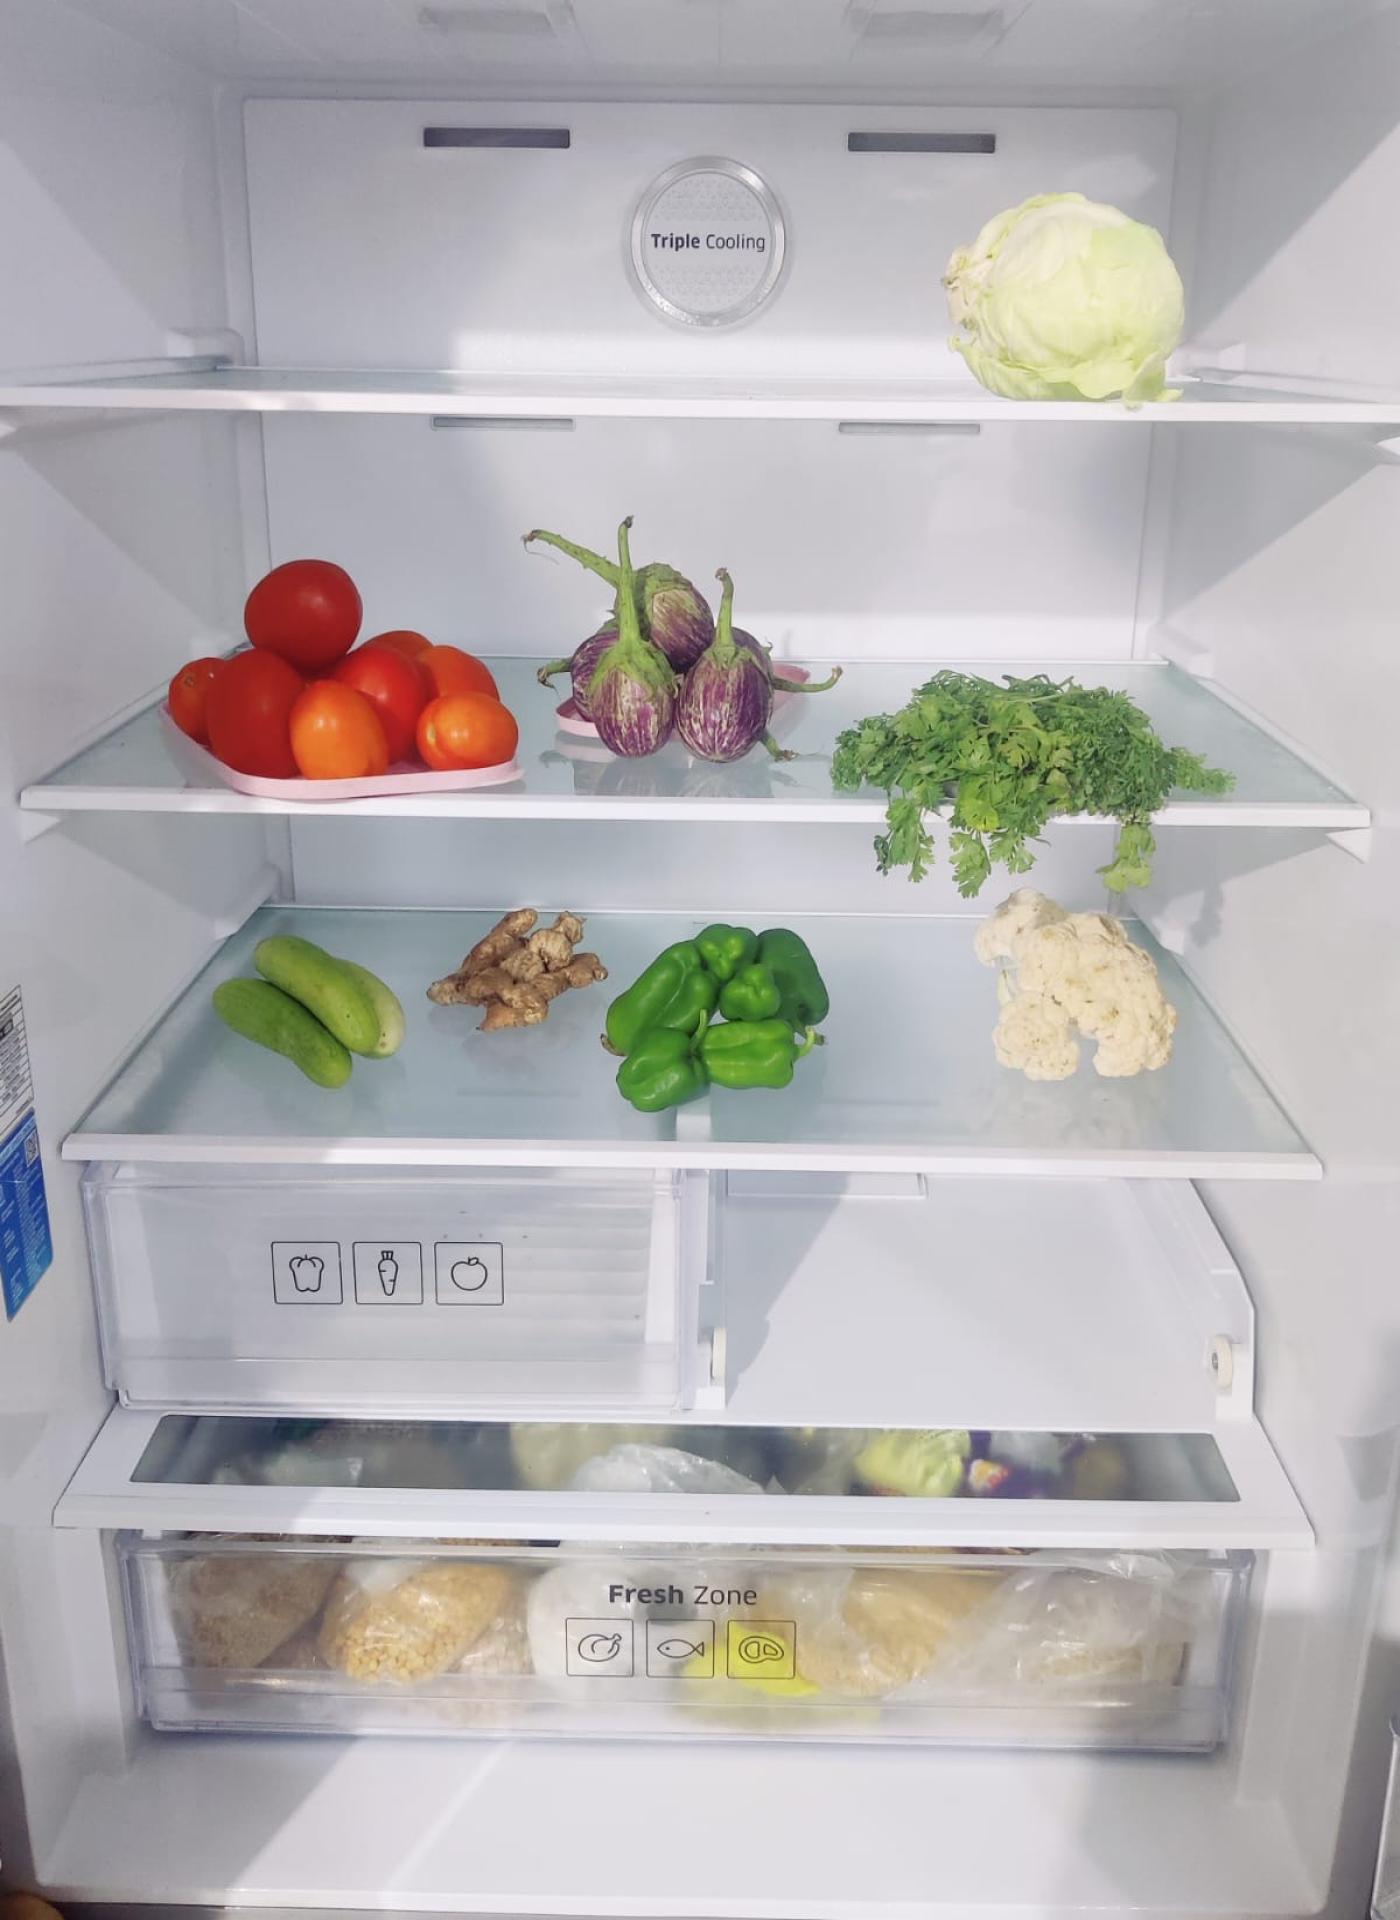brinjal: (568, 559, 780, 766)
cabbage: (947, 197, 1190, 407)
capsicum: (611, 926, 835, 1111)
cauliflower: (988, 899, 1185, 1087)
coriander: (839, 675, 1232, 836)
cucumber: (216, 936, 410, 1091)
ginger: (431, 903, 610, 1029)
tomato: (171, 555, 517, 772)
